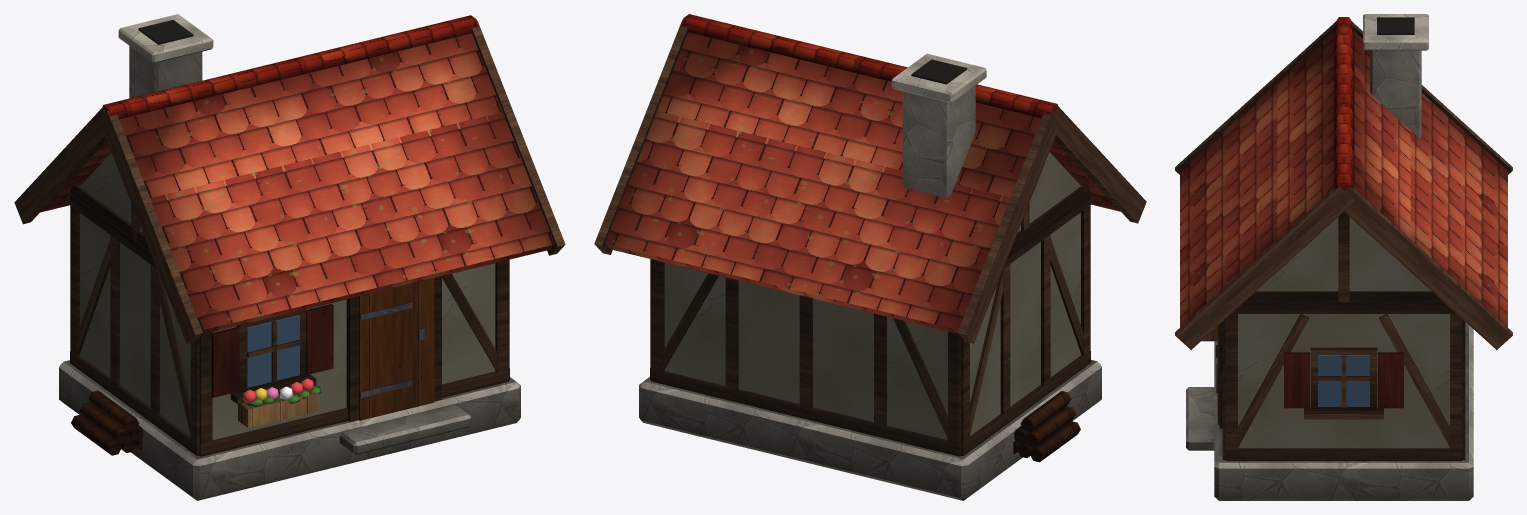
The model's file is town_house_small.glb.
3 views of the same model, side by side, from view 1: azimuth 30°, elevation 25°; view 2: azimuth 150°, elevation 25°; view 3: azimuth 270°, elevation 25° (orthographic). The views are drawn at different scales.
Visible parts, largest first — view 1: town_house_small; view 2: town_house_small; view 3: town_house_small.
Boxes of the visible parts, left/top/right/bottom form: town_house_small: left=14, top=14, right=565, bottom=500; town_house_small: left=594, top=14, right=1146, bottom=500; town_house_small: left=1175, top=14, right=1512, bottom=500.
Size of the model in its own units: 4.35 by 4.2 by 3.58.
9 materials, 7 textured.
